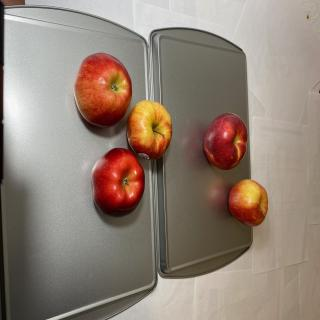Apple: (73, 52, 132, 128), (91, 148, 145, 218), (126, 100, 172, 160), (203, 112, 248, 170), (228, 179, 268, 227)
